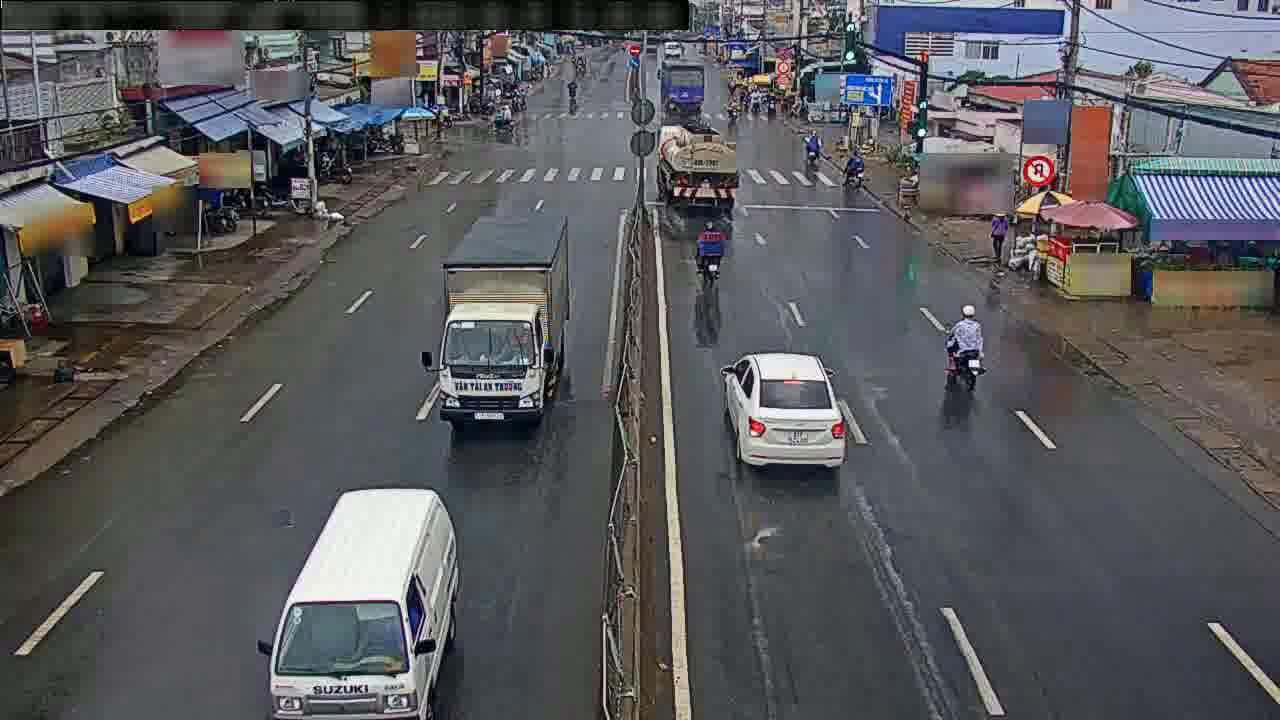8: (277, 482, 468, 716), (431, 209, 578, 415), (641, 118, 742, 221)
container: (708, 346, 847, 472)
motorbike: (934, 302, 992, 390), (688, 221, 727, 291), (836, 144, 870, 189), (802, 126, 823, 166)
